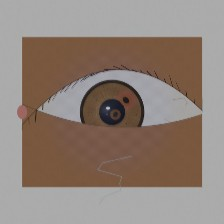foreign_body_visible: (101, 103, 130, 126)
